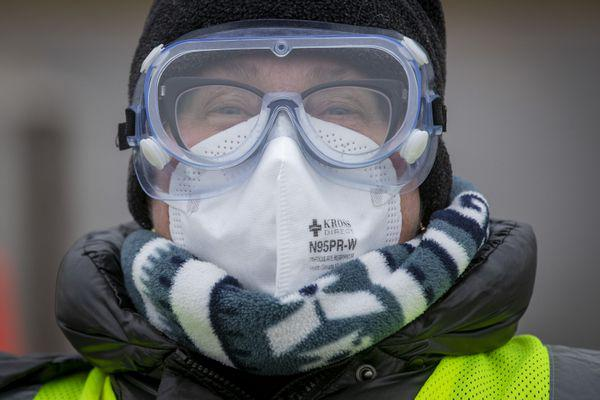OK: (154, 72, 415, 292)
